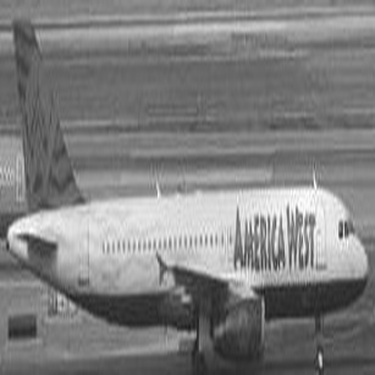airplane: (12, 14, 363, 362)
